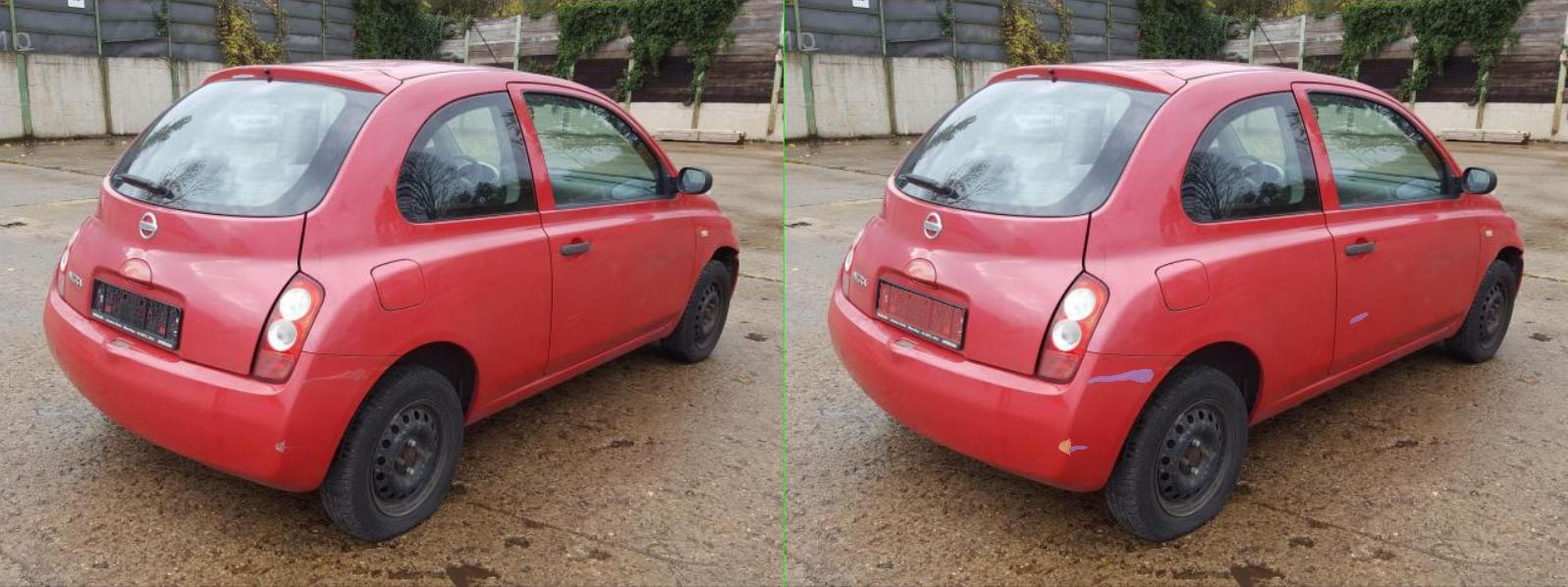Missing part: (187, 283, 358, 344)
Paint chip: (548, 439, 572, 454)
Scratch: (607, 369, 737, 382), (1132, 312, 1167, 323), (570, 446, 605, 451)
